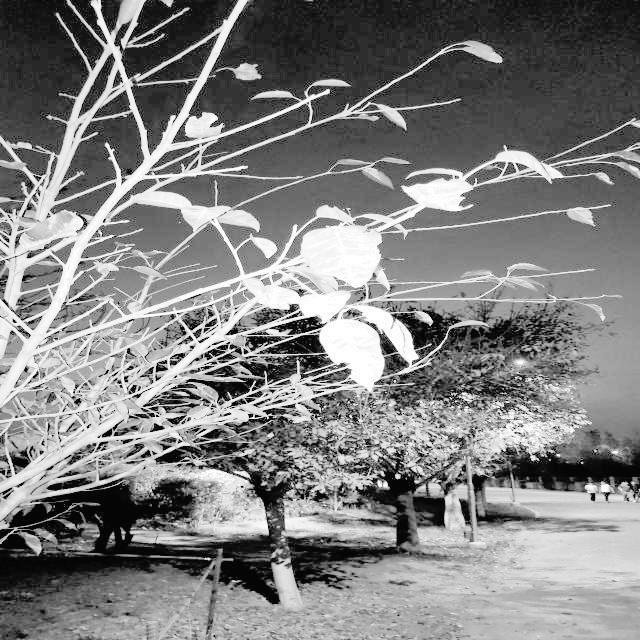Tree: (0, 0, 267, 523), (206, 418, 334, 610), (350, 405, 437, 555)
